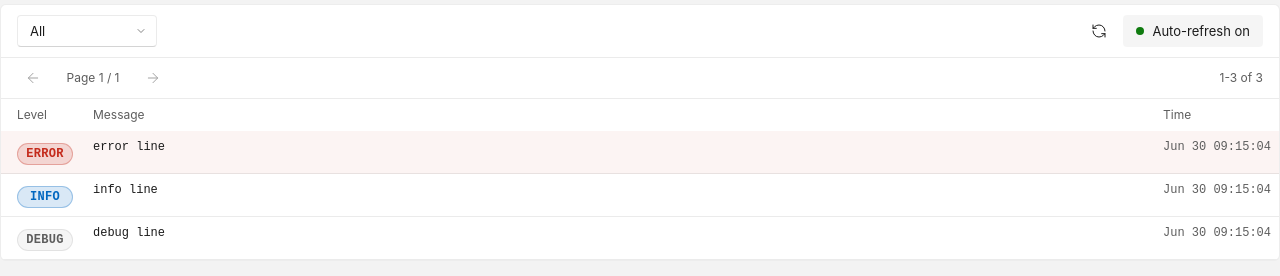
Scenario: LogViewer › filters by severity floor
This screenshot has width=1280, height=276.
expect the text "debug line" is shown: met, box x1=93 y1=226 x2=165 y2=240
Step 1. Select "Warn+" in the dropdown named "Severity filter" → (87, 31), box x1=17 y1=15 x2=157 y2=47
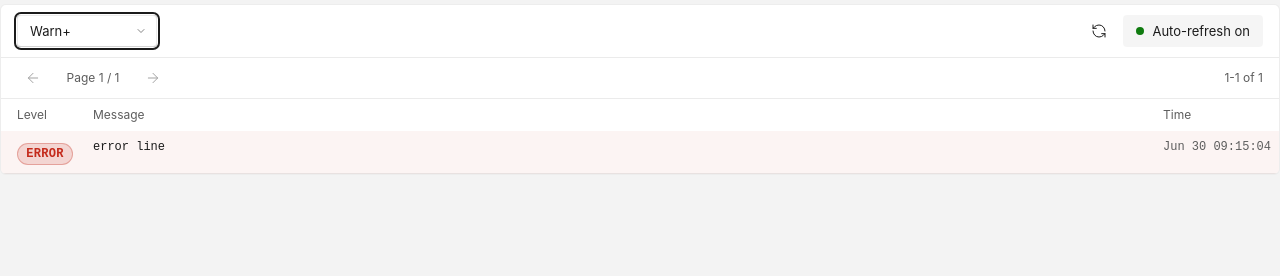
expect the text "error line" is shown: met, box x1=93 y1=140 x2=165 y2=154
expect the text "debug line" is gone: met
expect the text "info line" is gone: met
